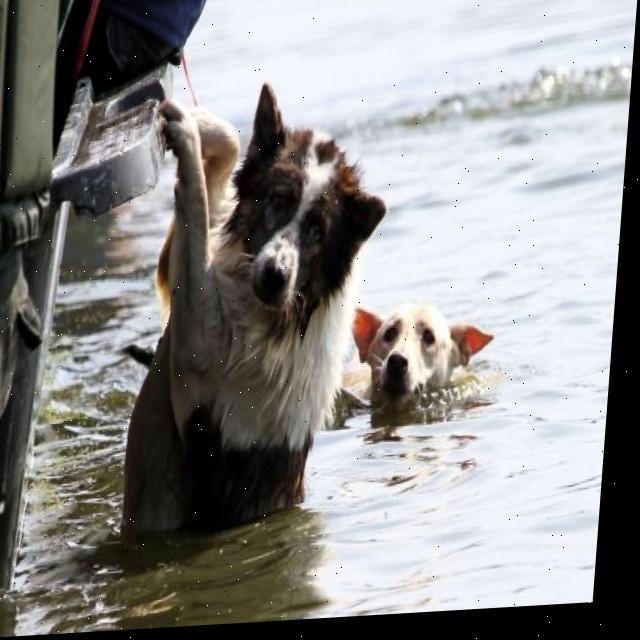dog: (113, 67, 389, 550), (325, 282, 510, 443)
